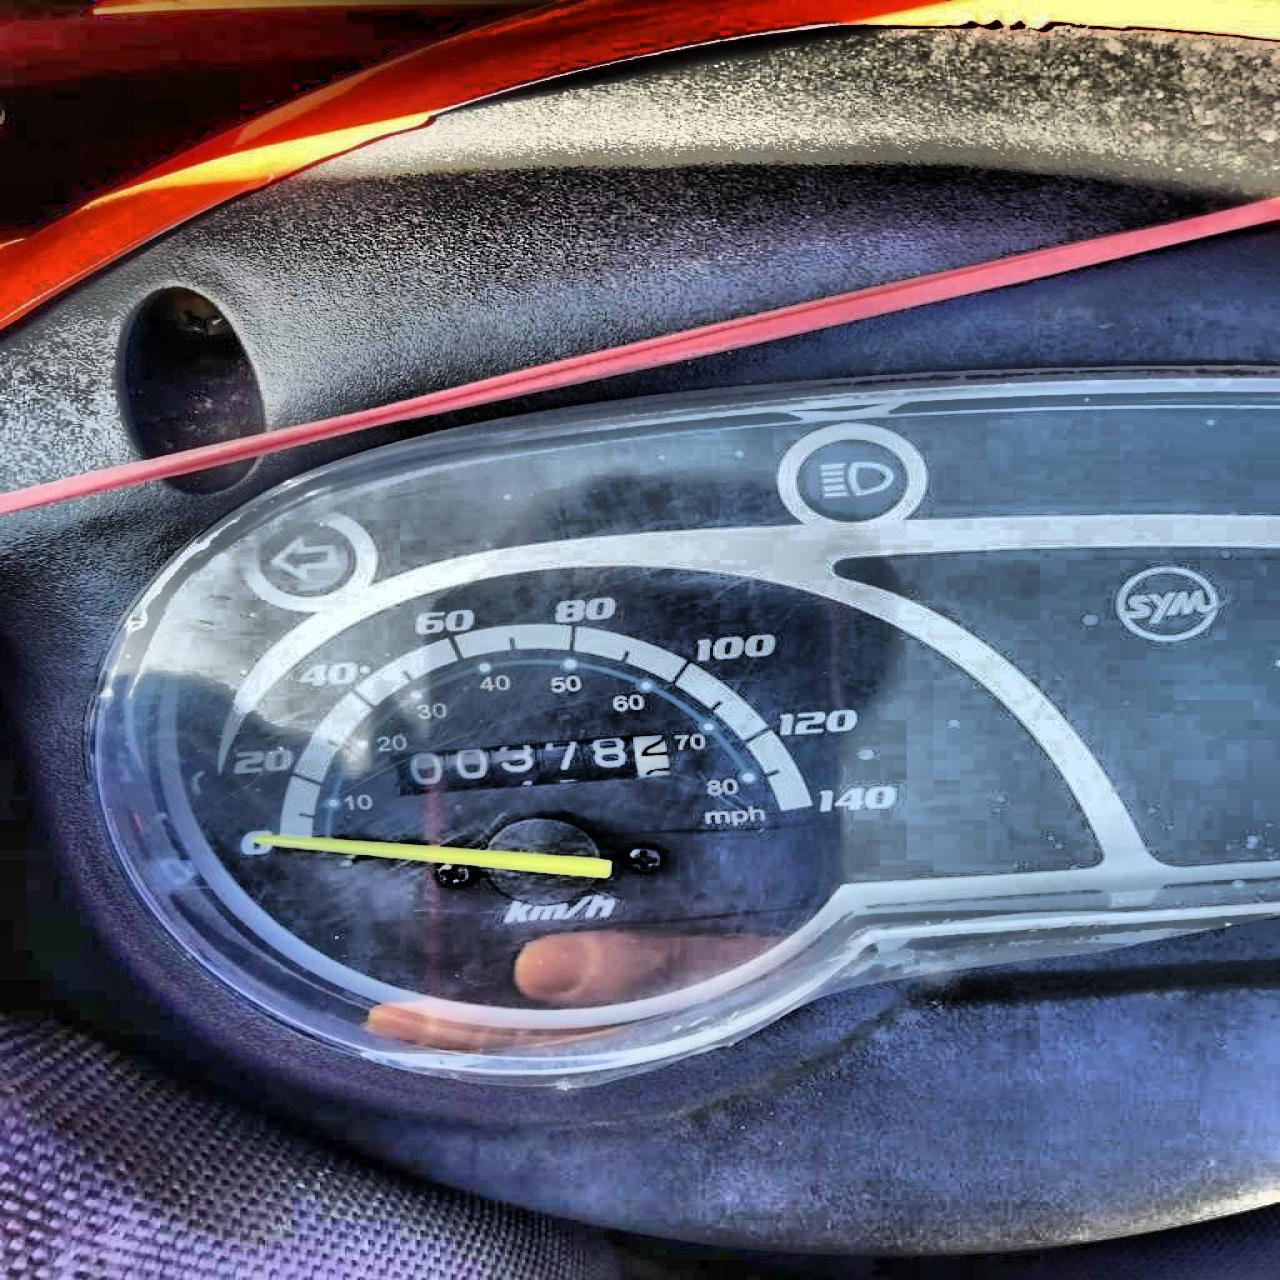0: (452, 745, 488, 779), (407, 751, 443, 785), (390, 731, 407, 750)
2: (635, 733, 668, 755)
3: (497, 738, 533, 772)
7: (544, 738, 578, 770)
8: (590, 735, 627, 767)
odometer: (388, 731, 672, 800)
